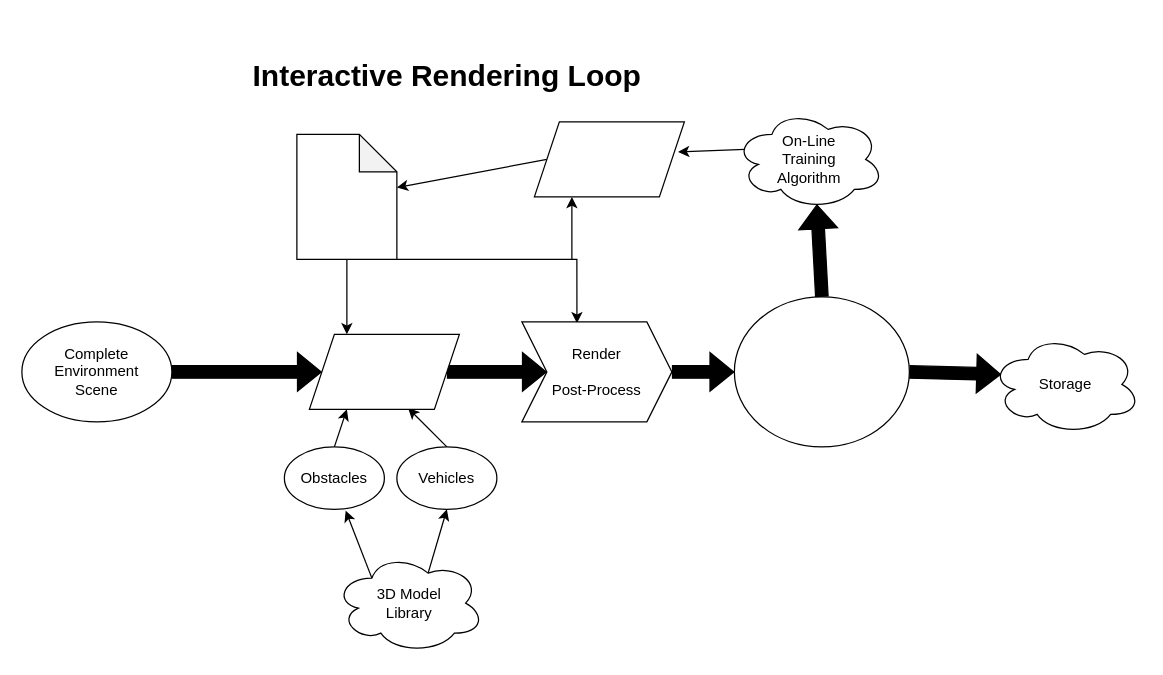
Image size: 1163x675. Some labels were removed from this diagram. Each missing label, with the centre of its shape:
Experiment Scene Parameters: pixel 346 196
Frame Image Data (Color, Depth, Segmentation) Metadata: pixel 821 371
Frame Setup Logic: pixel 383 371
Scene Parameter Update Logic: pixel 608 159
